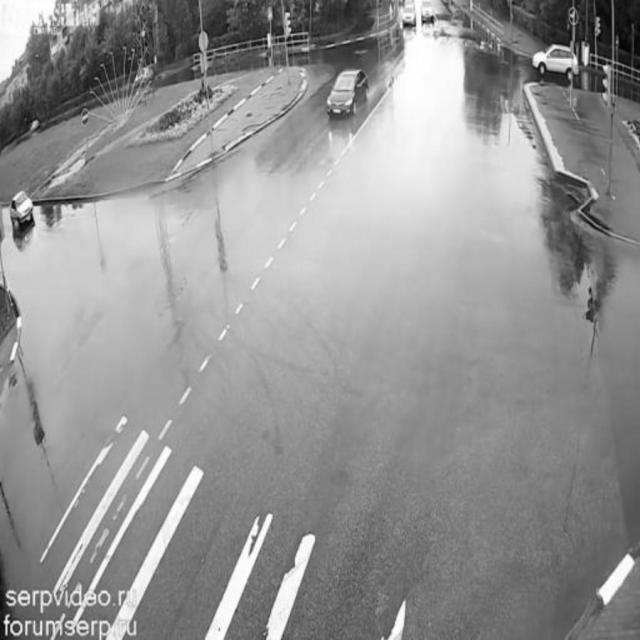vehicle: (325, 64, 373, 126), (527, 41, 583, 82), (7, 186, 41, 237), (402, 3, 417, 28)
